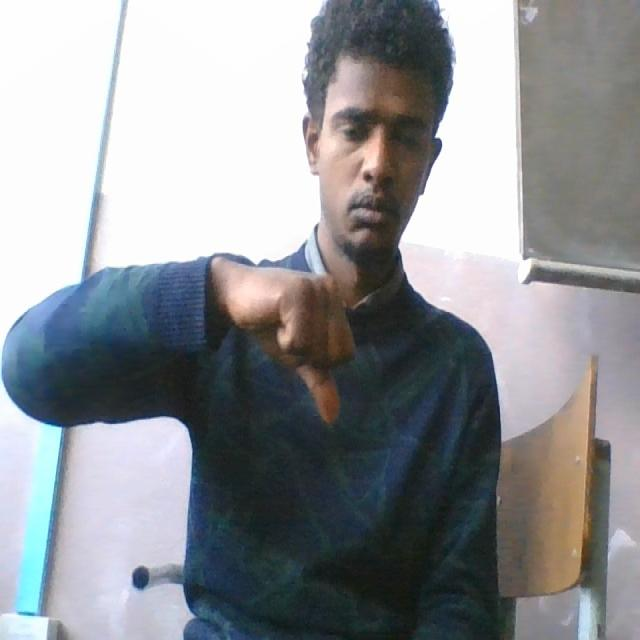injera: (207, 251, 360, 421)
